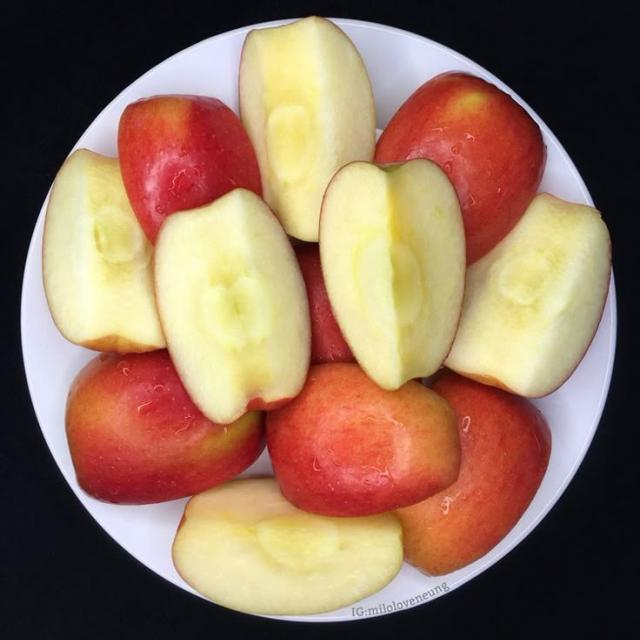apple: (155, 189, 310, 423), (320, 159, 466, 389), (446, 194, 611, 396), (375, 72, 546, 264), (395, 372, 551, 575), (173, 478, 402, 615), (66, 350, 264, 503), (240, 17, 375, 241), (267, 363, 459, 516), (42, 149, 165, 352), (118, 95, 261, 243), (294, 244, 354, 364)
